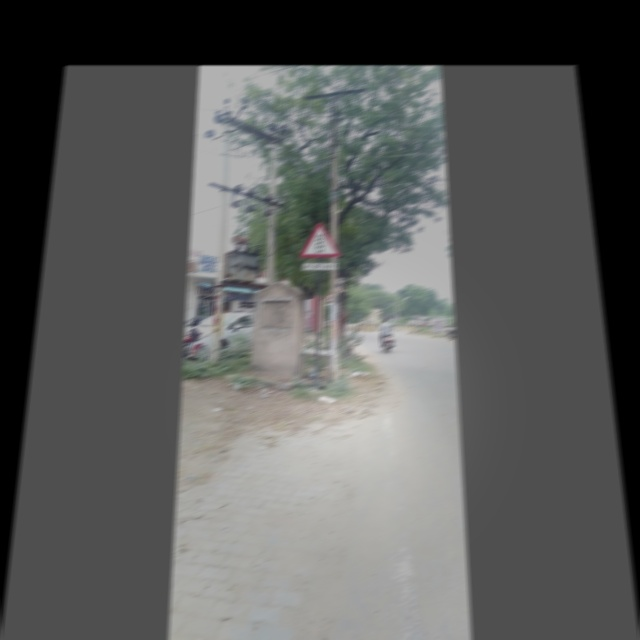Narrow_Road_Ahead: (300, 221, 338, 257)
